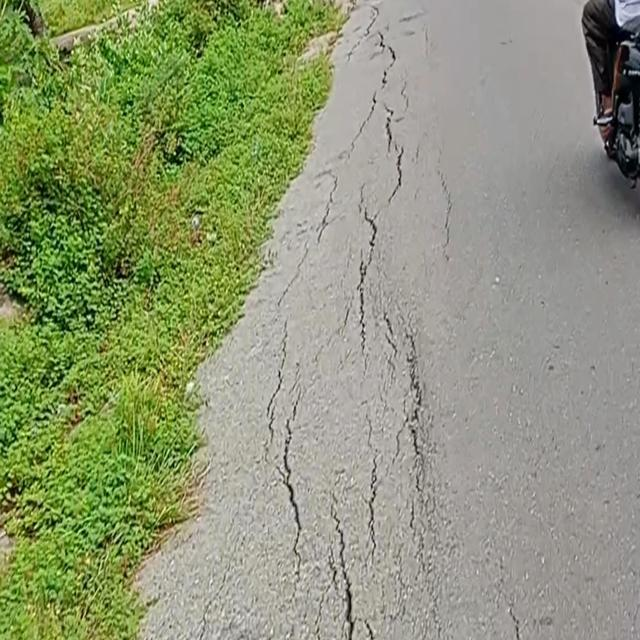Memanjang: (338, 77, 414, 354), (261, 380, 313, 572)
